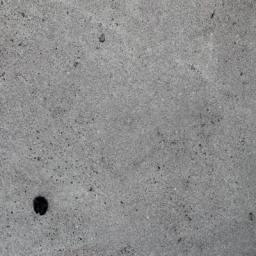FOD: (32, 195, 51, 219)
